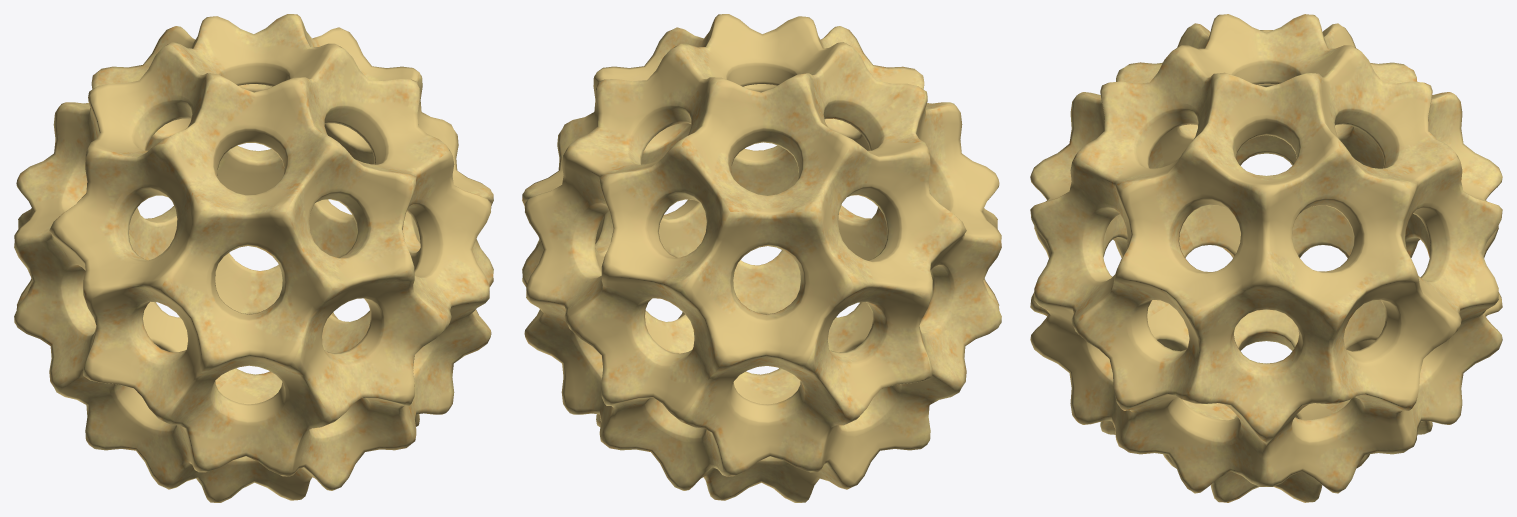
File: decorative_sphere.obj
3 views of the same model, side by side, from view 1: azimuth 30°, elevation 25°; view 2: azimuth 150°, elevation 25°; view 3: azimuth 270°, elevation 25° (orthographic).
Parts seen in each view (by area): view 1: defaultMaterial; view 2: defaultMaterial; view 3: defaultMaterial.
Part boxes in pixels (<box>): defaultMaterial: <box>14,14,493,502</box>; defaultMaterial: <box>522,14,1001,502</box>; defaultMaterial: <box>1030,14,1502,502</box>.
Size of the model in its own units: 2.01 by 2.01 by 2.01.
1 material, 1 textured.
